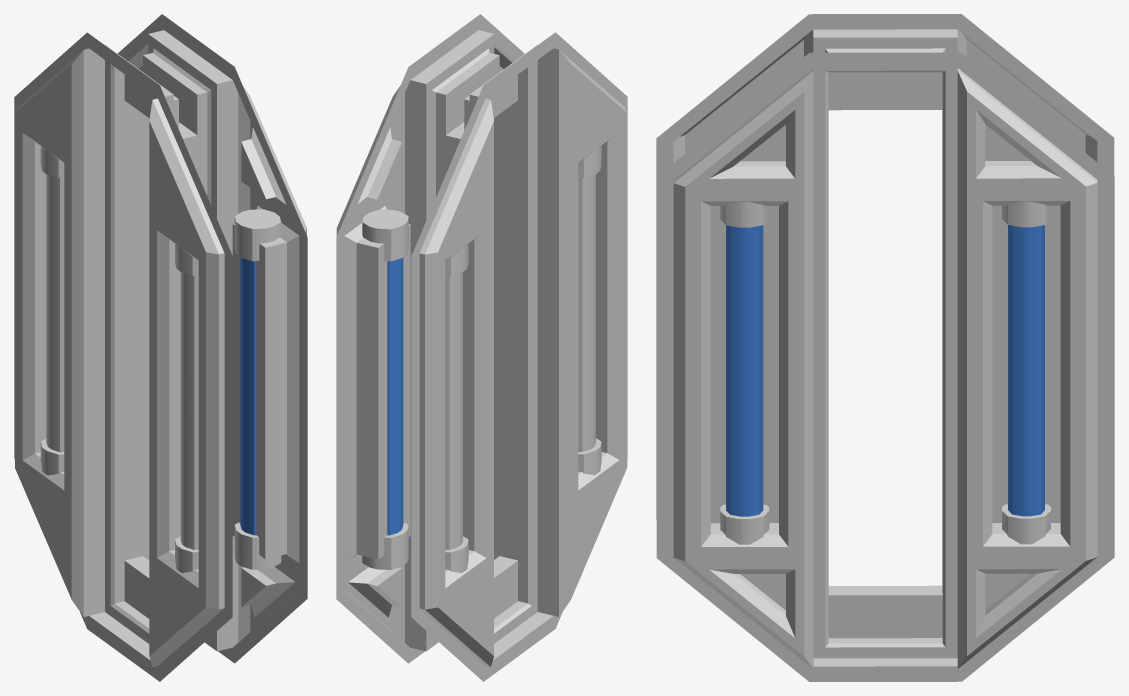
The model's file is StarshipGate.fbx.
3 renders of one model, left to right at view 1: azimuth 30°, elevation 25°; view 2: azimuth 150°, elevation 25°; view 3: azimuth 270°, elevation 25°, orthographic. The views are drawn at different scales.
Parts seen in each view (by area): view 1: Starship_gates.001; view 2: Starship_gates.001; view 3: Starship_gates.001.
Part boxes in pixels (x1,y1,x2,y2): Starship_gates.001: (14, 14, 307, 681); Starship_gates.001: (336, 14, 627, 681); Starship_gates.001: (656, 14, 1114, 681).
Bounding box in the file's own units: 41.07 × 230 × 152.
